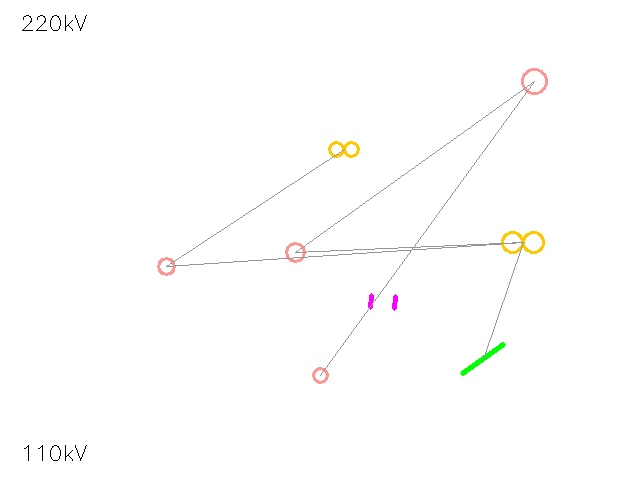busbar: (452, 328, 514, 390)
capacitor: (363, 282, 403, 322)
disconnect_switch: (510, 57, 558, 105)
fuse: (150, 250, 182, 282)
load_break_switch: (276, 233, 314, 271)
surge_arrester: (305, 360, 335, 390)
transformer_2w: (496, 215, 550, 269), (325, 130, 363, 168)
